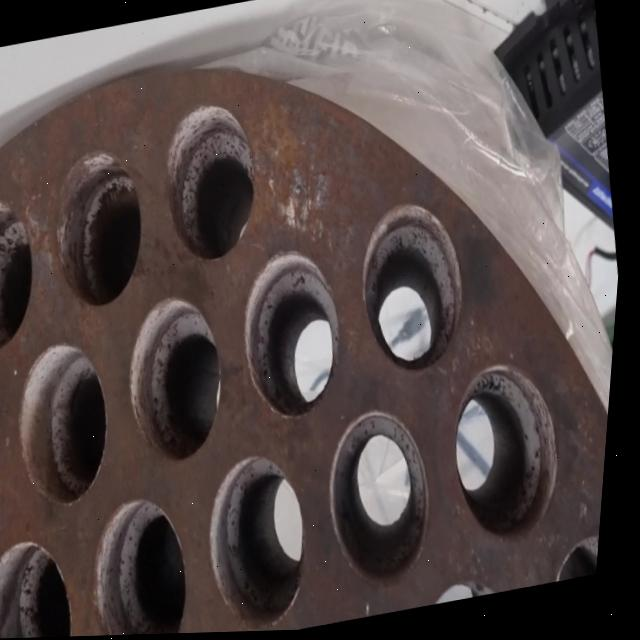Hole: (443, 356, 582, 552), (320, 404, 455, 598), (349, 197, 483, 382), (199, 448, 330, 635), (230, 243, 361, 430), (117, 290, 243, 470), (7, 336, 129, 514), (152, 96, 273, 270), (43, 144, 160, 314), (86, 491, 210, 637), (0, 533, 94, 639), (0, 192, 52, 355), (547, 532, 608, 587)
